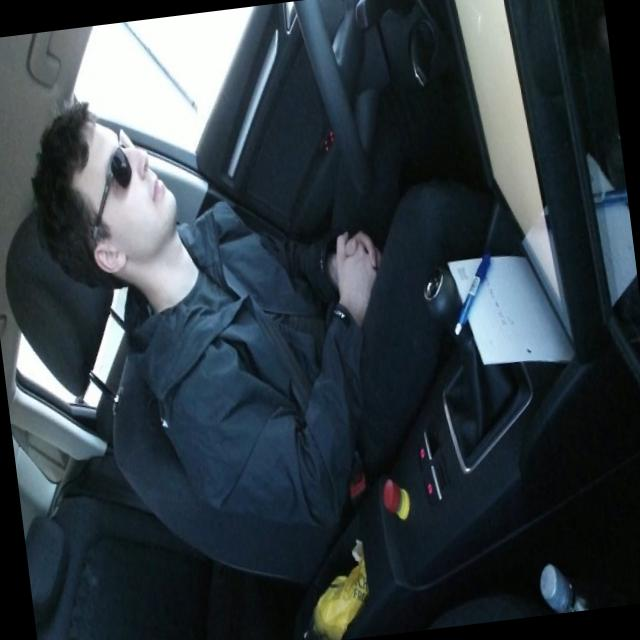pen: (443, 245, 502, 338)
